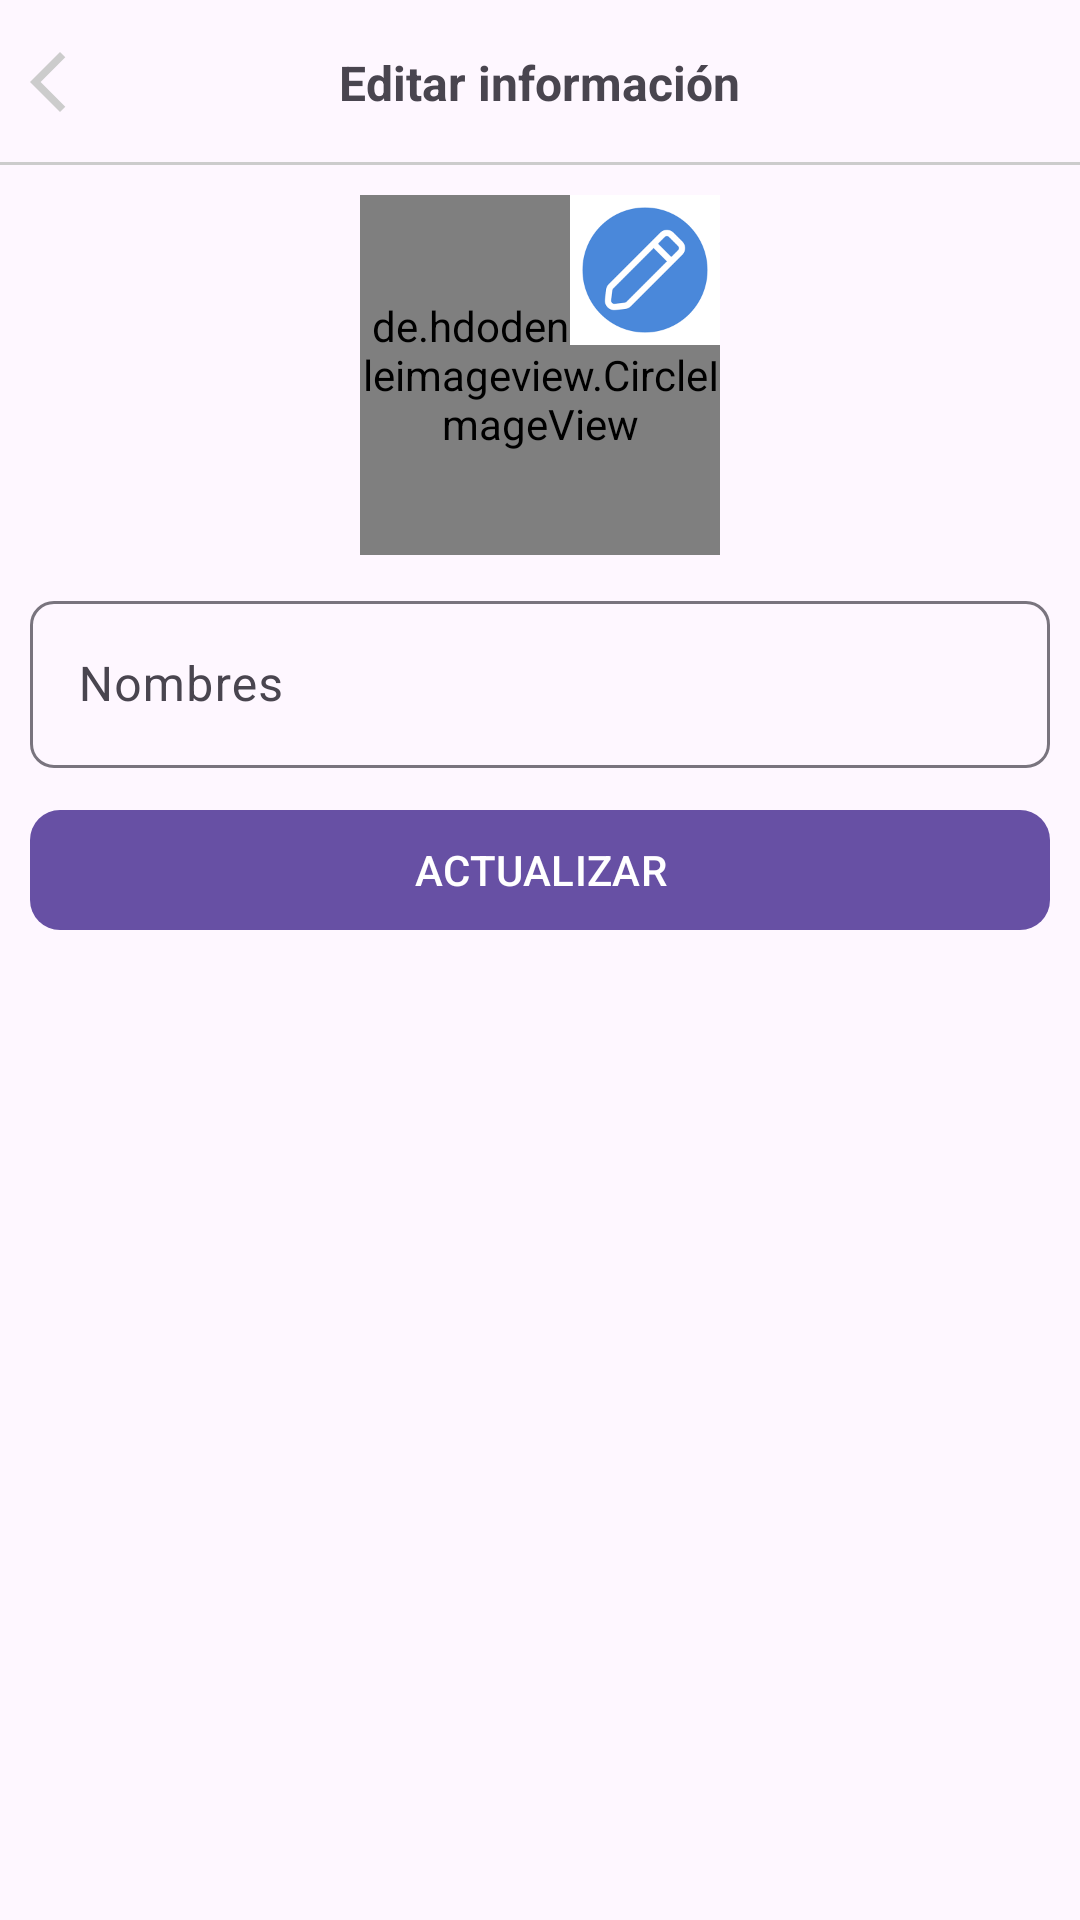

Named icons in this screenshot (1080w x 1920h) and their centers, point (x, y):
regresar: point (47, 82)
